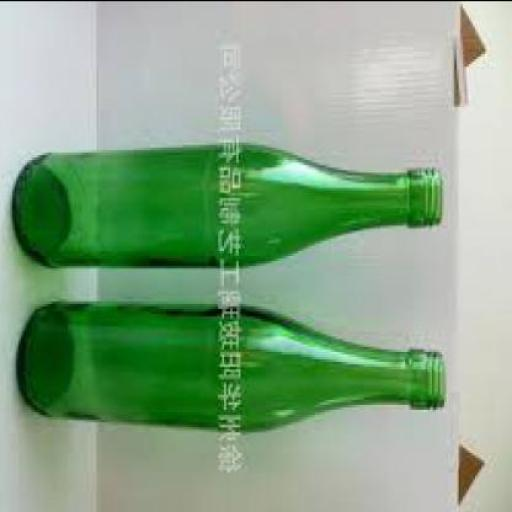cardboard: (98, 2, 468, 511), (463, 444, 485, 510), (463, 4, 483, 71)
glass: (18, 305, 447, 436), (12, 146, 444, 272)
